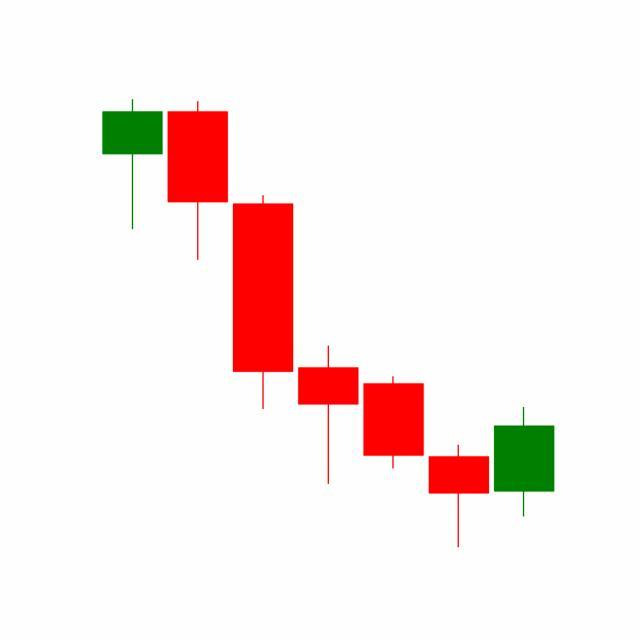Morning Star: (360, 374, 556, 548)
